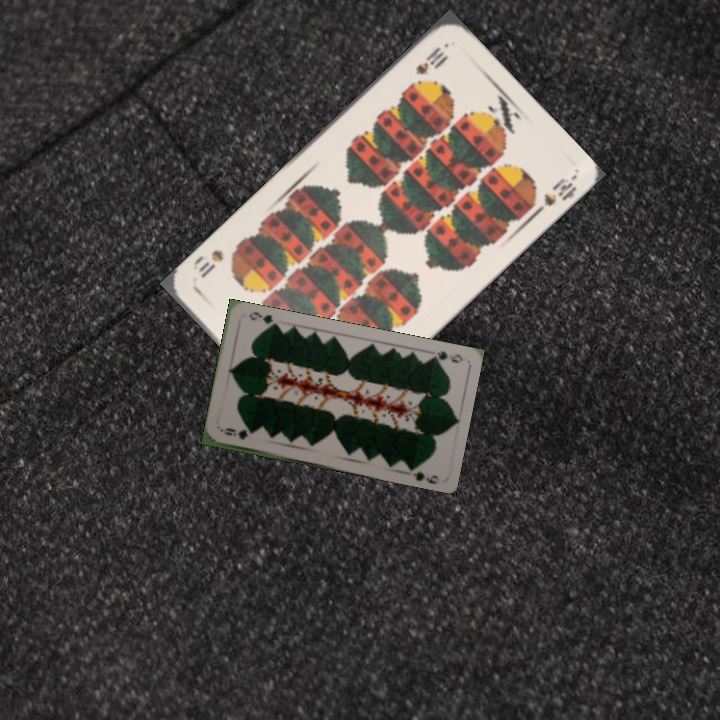G9: (426, 347, 465, 365), (218, 425, 257, 442)
S10: (411, 42, 449, 78)
